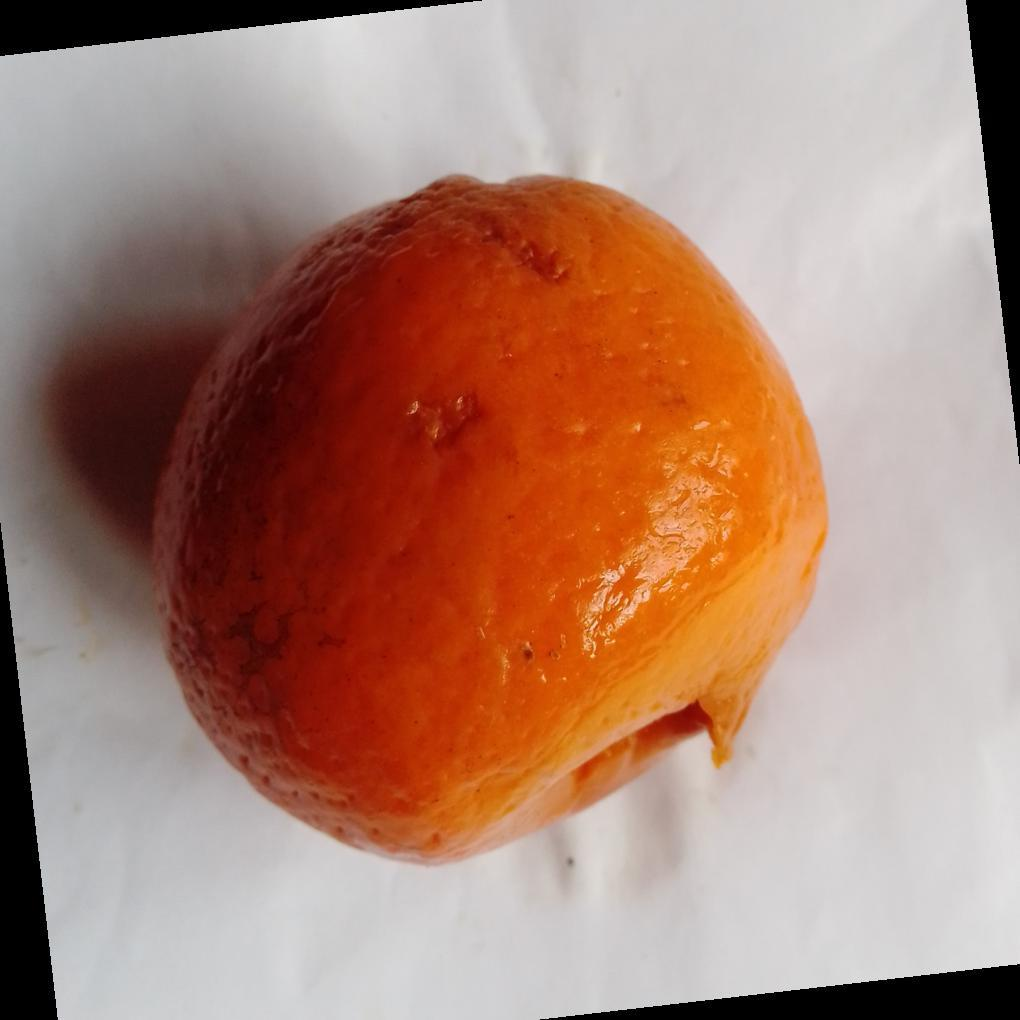FreshOrange: (148, 176, 830, 871)
